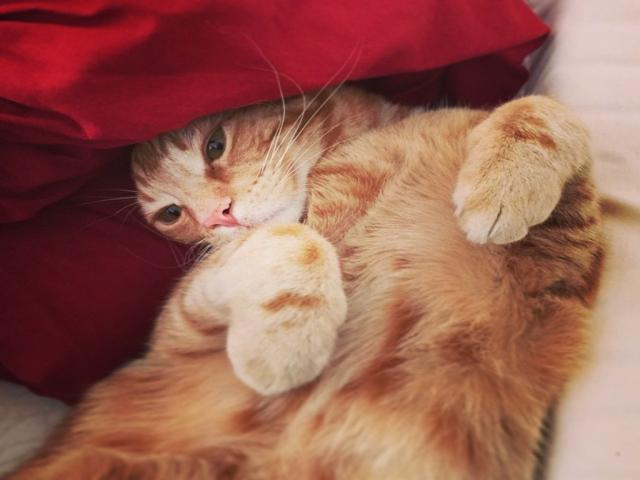Cat: (0, 30, 616, 479)
